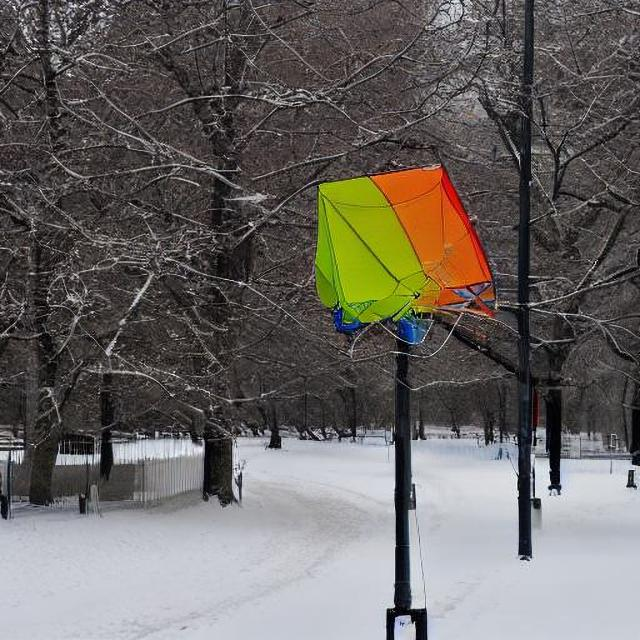floating object: (312, 162, 493, 340)
